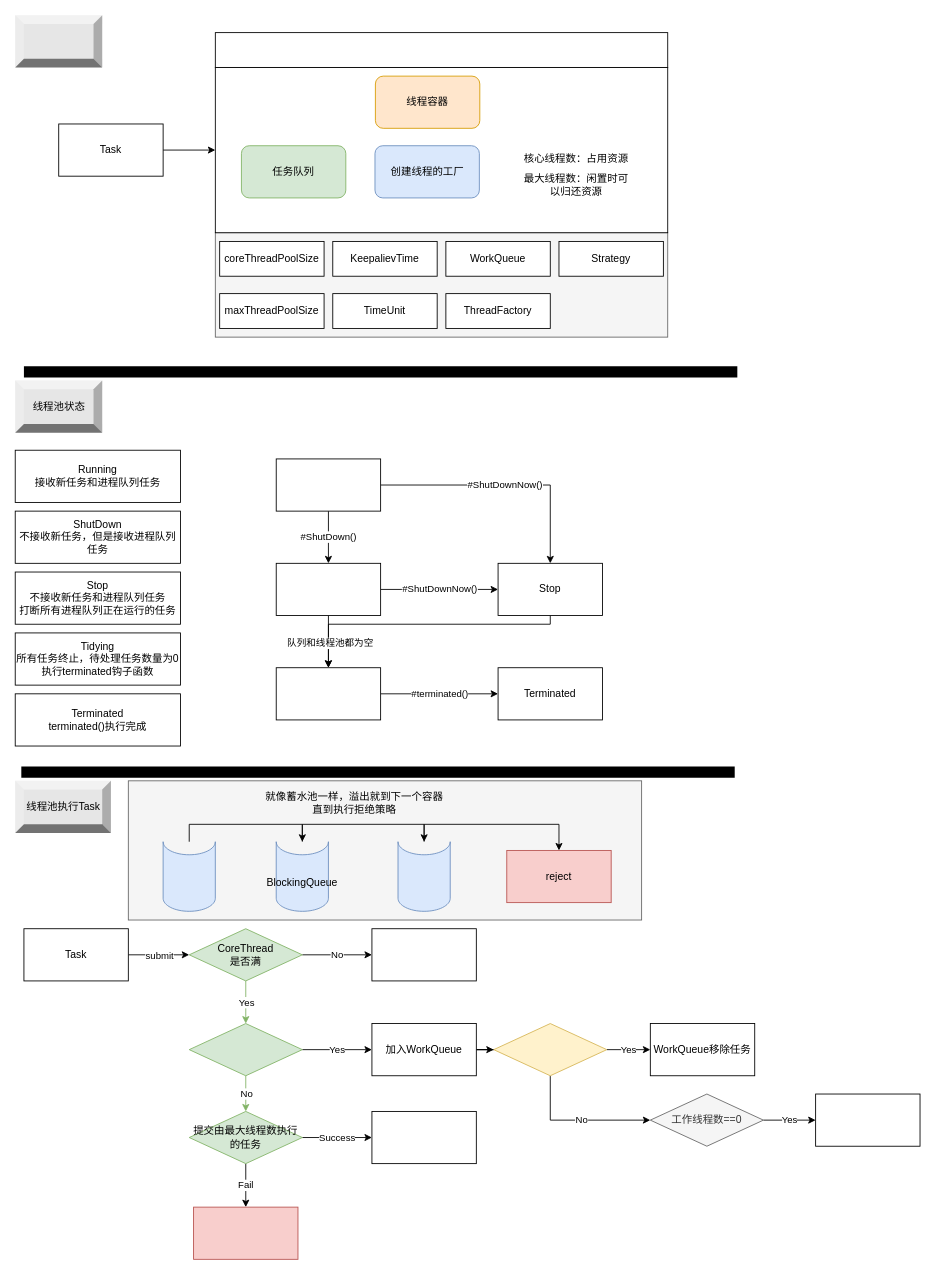
Some shapes in this 935 by 1275 pixel diagram are drawn without their labels. Each missing label, with the box of its shape:
addWork 提交最大线程执行任务: (815, 1093, 920, 1146)
CoreThread: (162, 841, 215, 911)
MaxThread: (397, 841, 450, 911)
Running: (275, 458, 381, 511)
ShutDown: (275, 562, 381, 616)
Tidying: (275, 667, 381, 720)
执行拒绝策略: (193, 1206, 298, 1259)
核心线程 执行task: (371, 928, 476, 981)
线程池: (214, 32, 668, 67)
线程池停止运行: (493, 1023, 607, 1076)
线程池正在运行 workQueue未满: (188, 1023, 302, 1076)
线程池组成: (15, 15, 102, 67)
结束: (371, 1111, 476, 1164)
